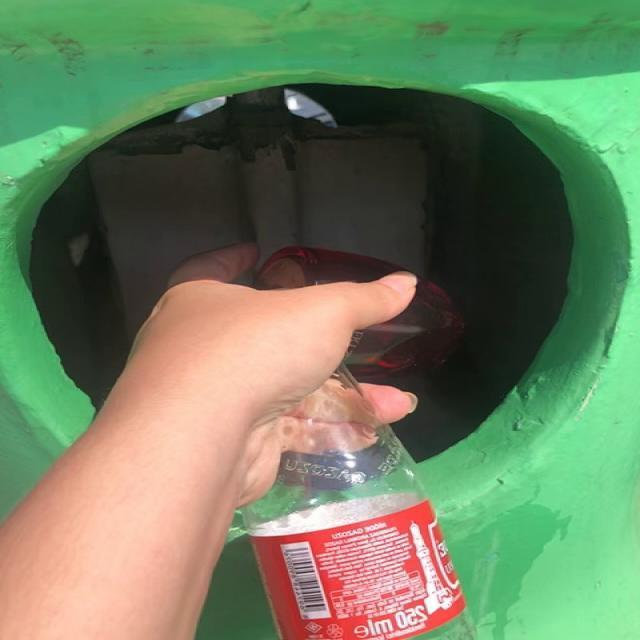Glass: (243, 279, 473, 640), (256, 246, 403, 288)
